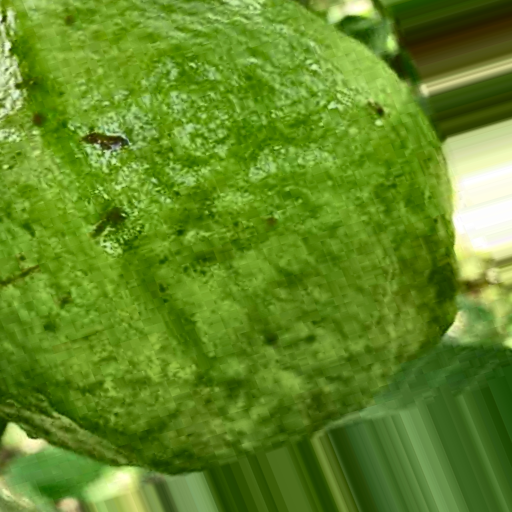guava: (58, 18, 512, 458)
